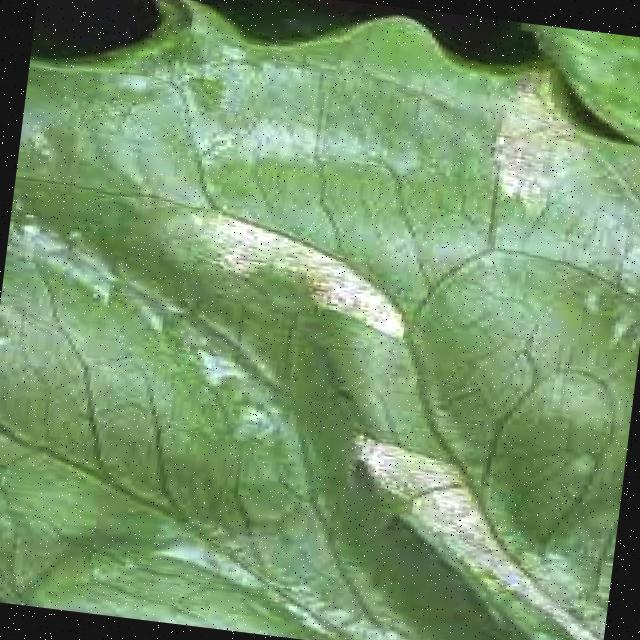Powdery_Mildew: (45, 82, 639, 636)
